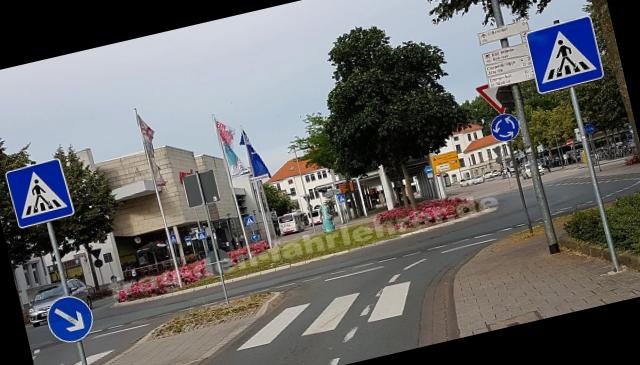crosswalk-sign: (524, 16, 606, 97), (5, 157, 76, 230)
